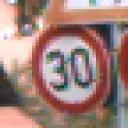speed_limit_30: (29, 25, 114, 115)
